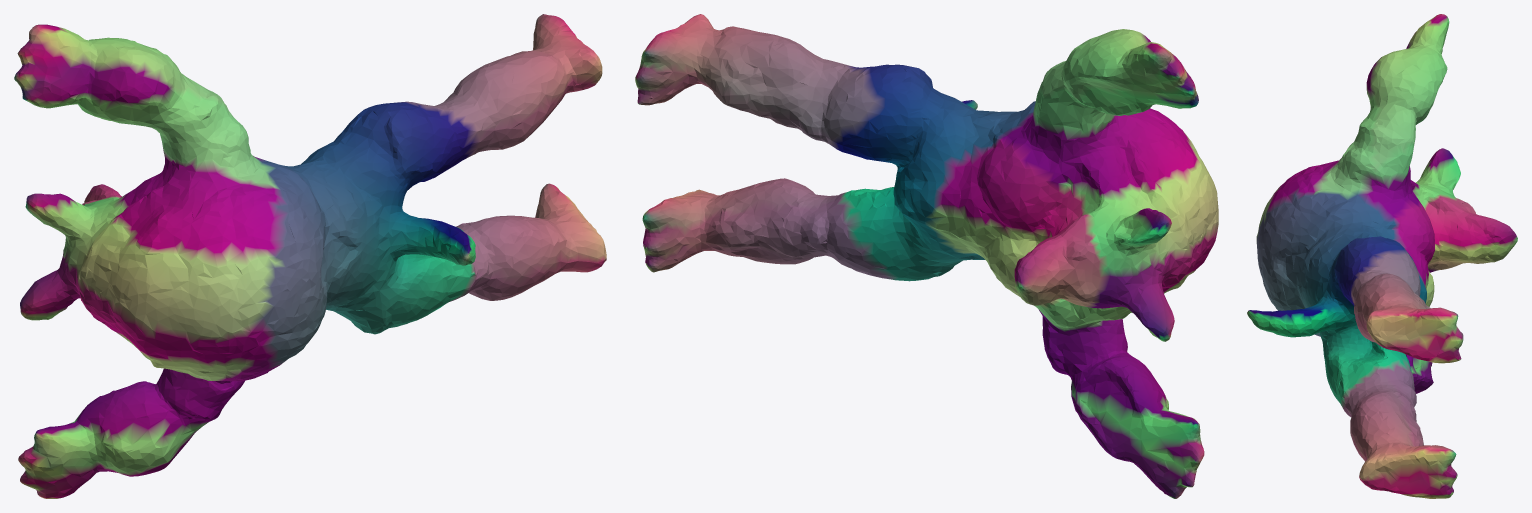
File: armadillo-16.off.obj
3 renders of one model, left to right at view 1: azimuth 30°, elevation 25°; view 2: azimuth 150°, elevation 25°; view 3: azimuth 270°, elevation 25°, orthographic. The views are drawn at different scales.
Size of the model in its own units: 1.46 by 1.16 by 0.763.
